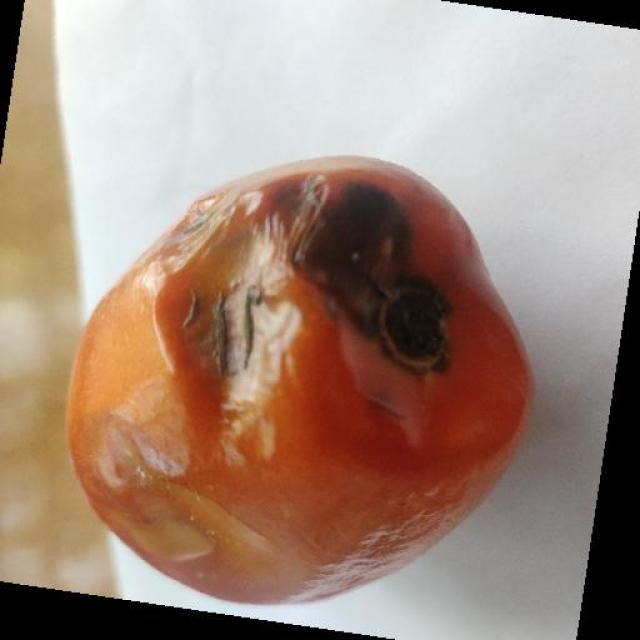Stale_tomato: (76, 172, 496, 556)
